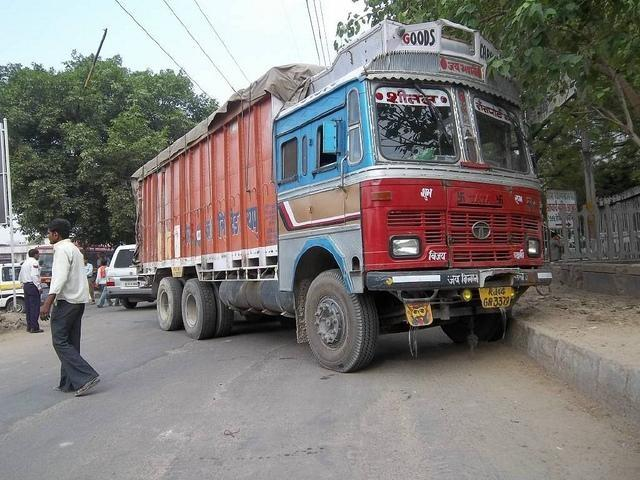car: (104, 244, 150, 310), (1, 263, 25, 313)
truck: (128, 19, 554, 376)
